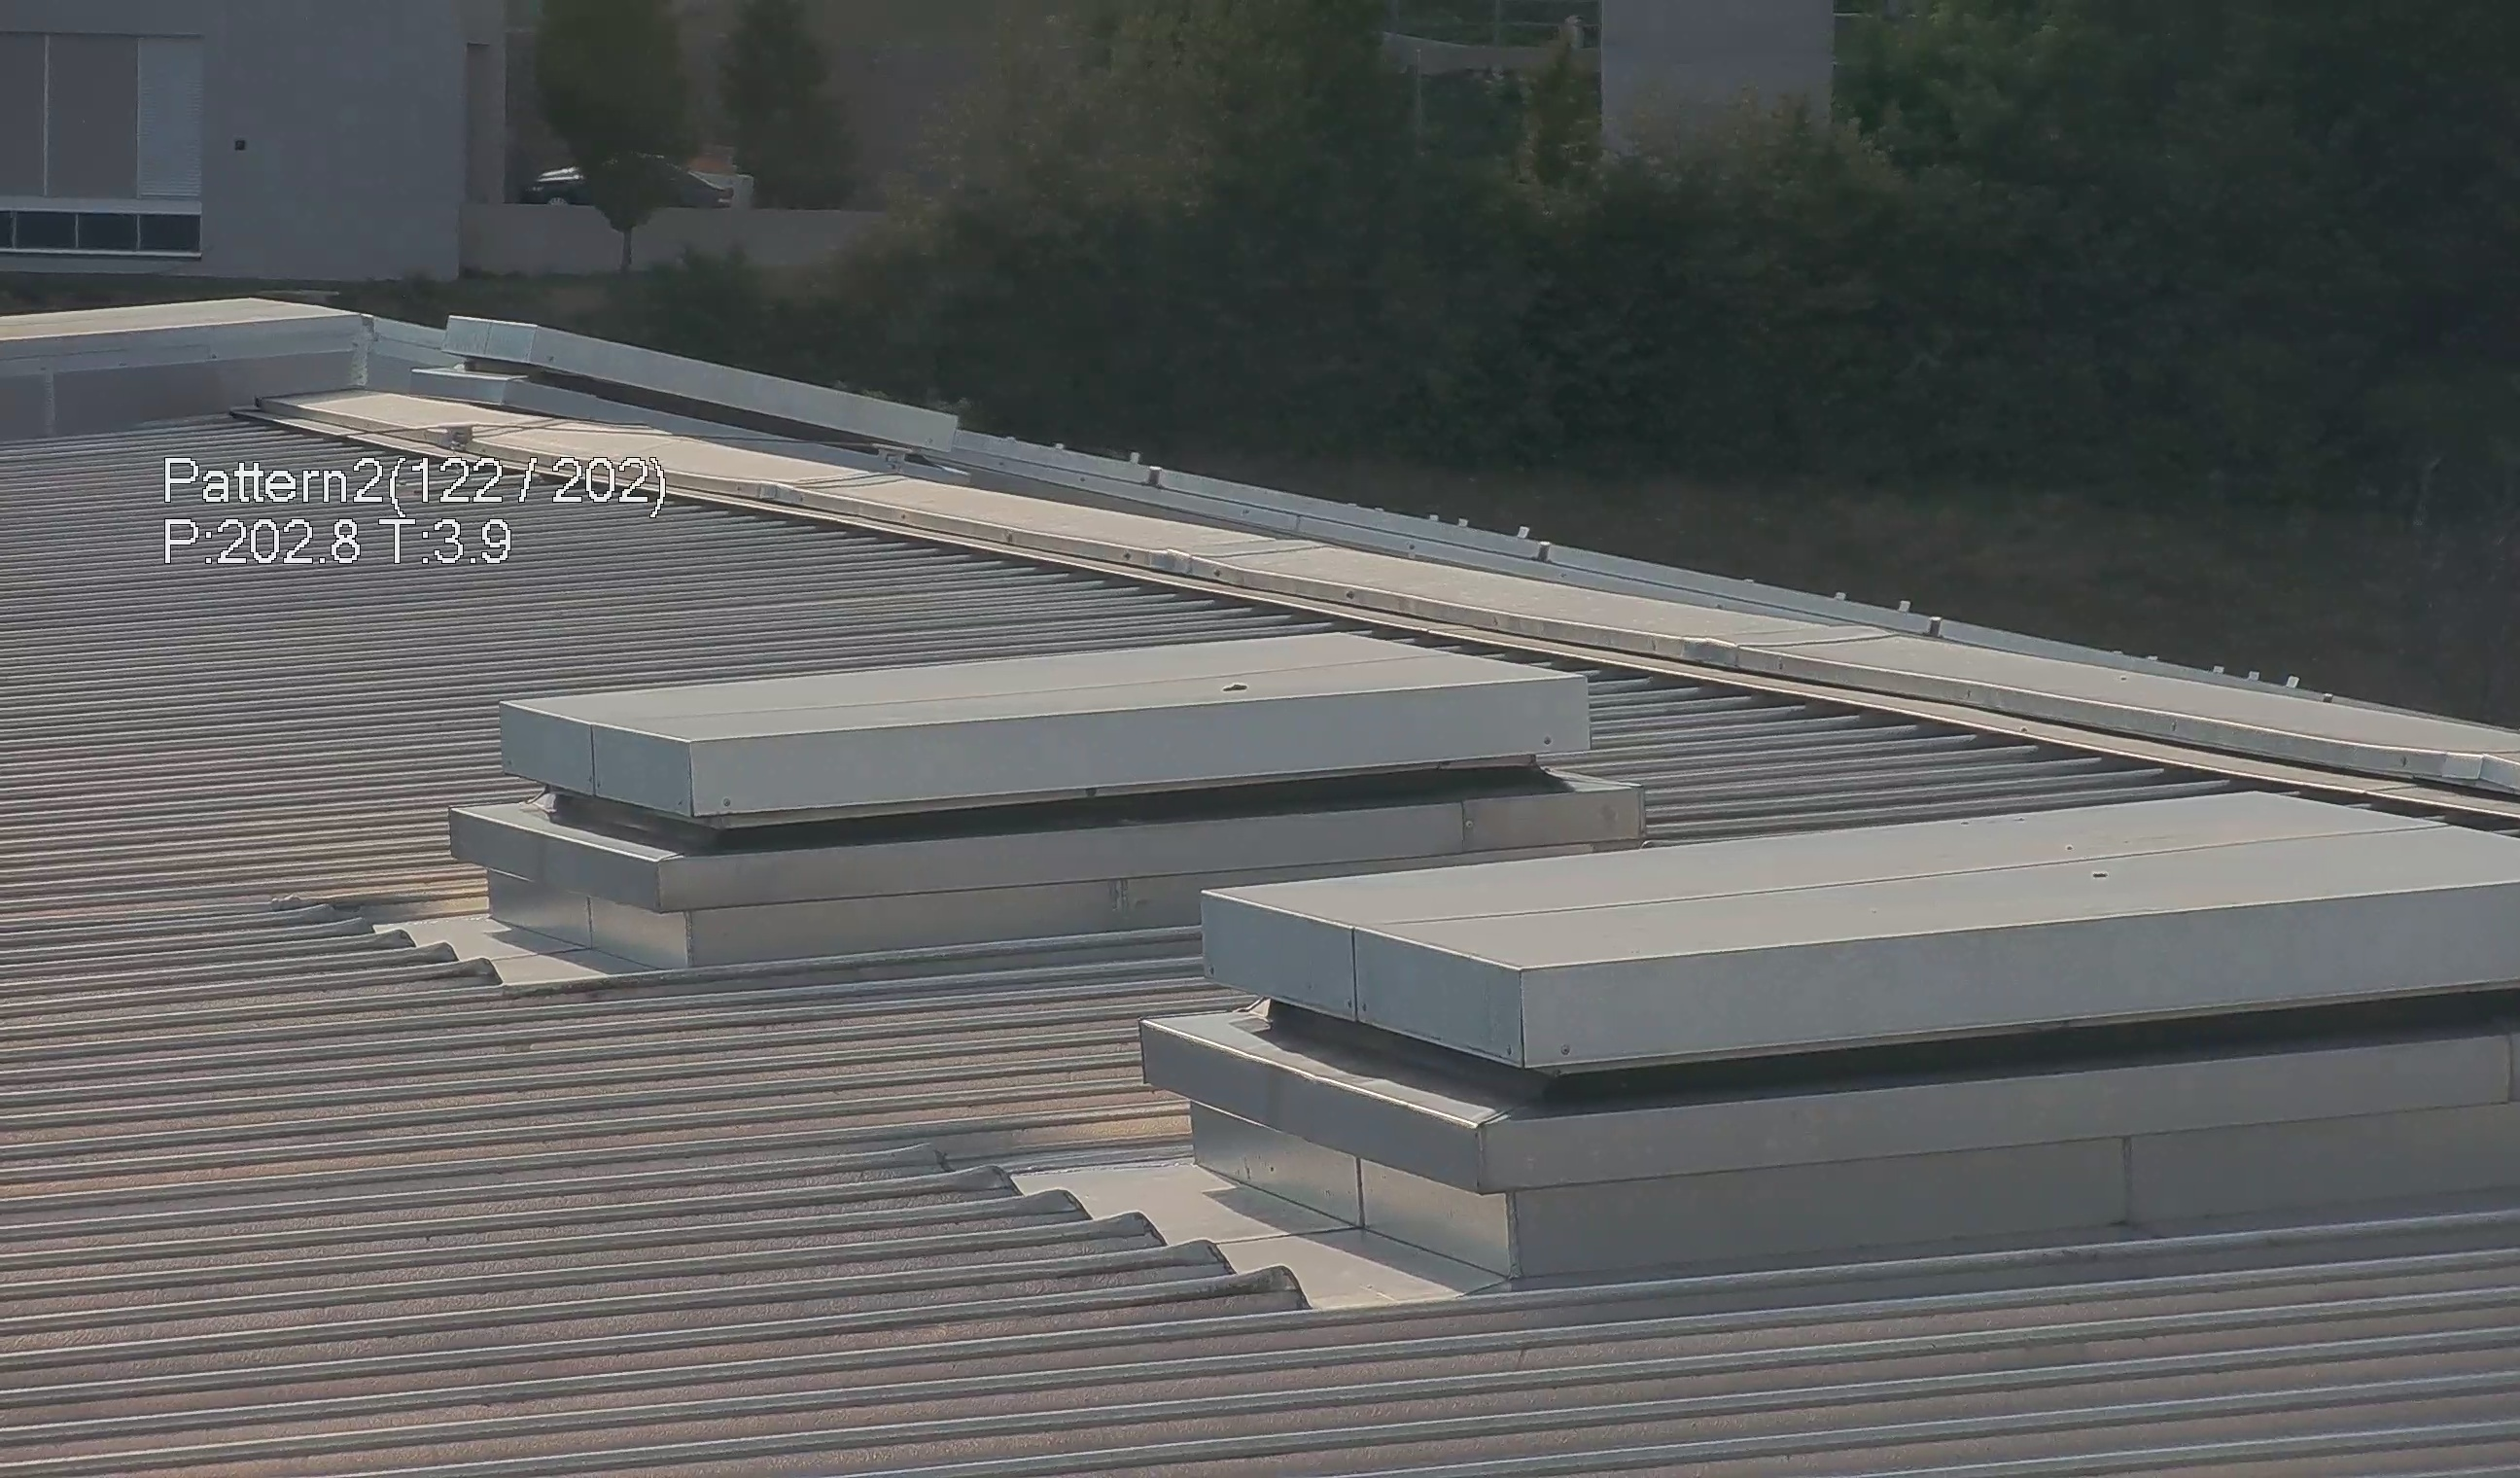Other: (524, 118, 753, 260)
